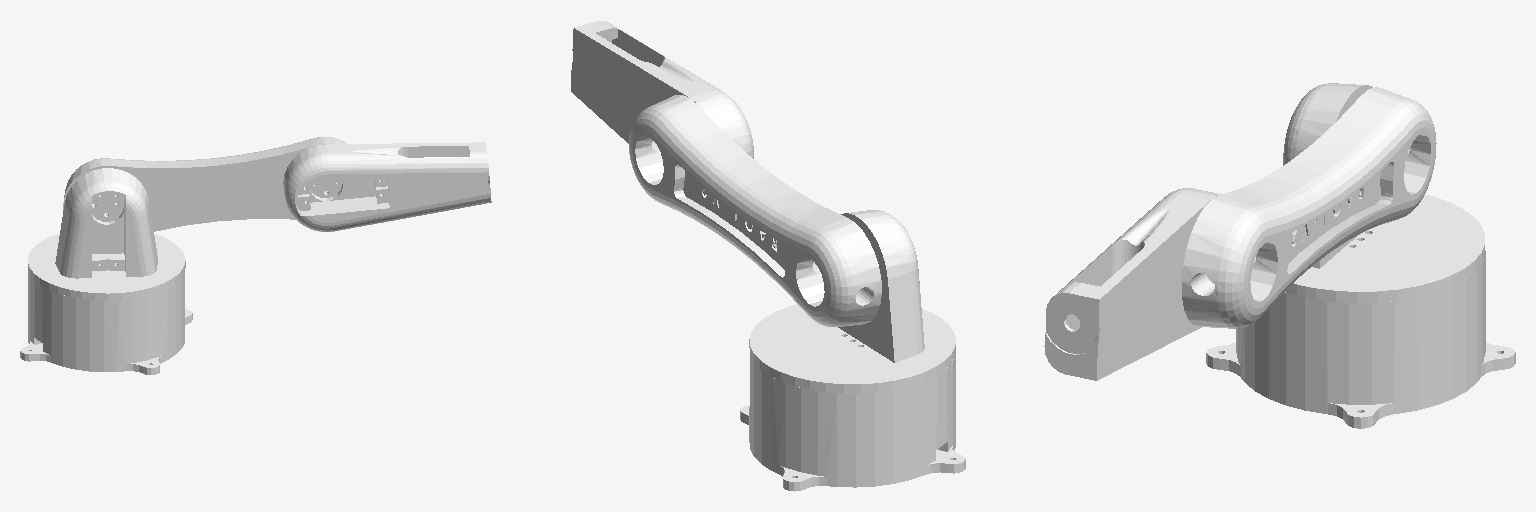
robot.urdf — Assem2:
<?xml version="1.0" encoding="utf-8"?>
<!-- This URDF was automatically created by SolidWorks to URDF Exporter! Originally created by [author] ([email redacted]) 
     Commit Version: 1.6.0-4-g7f85cfe  Build Version: 1.6.7995.38578
     For more information, please see http://wiki.ros.org/sw_urdf_exporter -->
<robot
  name="Assem2">
  <link
    name="base_link">
    <inertial>
      <origin
        xyz="0.0285647678482811 0.0128385978567724 0.086626074969798"
        rpy="0 0 0" />
      <mass
        value="0.093991528357274" />
      <inertia
        ixx="0.000114117470960472"
        ixy="-1.35284302533612E-06"
        ixz="-1.97704391590087E-13"
        iyy="0.000197768588984219"
        iyz="-1.91153638161672E-13"
        izz="0.000124427257958152" />
    </inertial>
    <visual>
      <origin
        xyz="0 0 0"
        rpy="0 0 0" />
      <geometry>
        <mesh
          filename="package://Assem2/meshes/base_link.STL" />
      </geometry>
      <material
        name="">
        <color
          rgba="1 1 1 1" />
      </material>
    </visual>
    <collision>
      <origin
        xyz="0 0 0"
        rpy="0 0 0" />
      <geometry>
        <mesh
          filename="package://Assem2/meshes/base_link.STL" />
      </geometry>
    </collision>
  </link>
  <link
    name="1">
    <inertial>
      <origin
        xyz="-1.03814226742882E-07 0.00705756789604219 0.0144229347811694"
        rpy="0 0 0" />
      <mass
        value="0.0897213187915252" />
      <inertia
        ixx="6.69370927398782E-05"
        ixy="2.7714050232135E-10"
        ixz="6.66096705314111E-11"
        iyy="7.72728720700262E-05"
        iyz="-7.96790903926846E-06"
        izz="7.06954475493944E-05" />
    </inertial>
    <visual>
      <origin
        xyz="0 0 0"
        rpy="0 0 0" />
      <geometry>
        <mesh
          filename="package://Assem2/meshes/1.STL" />
      </geometry>
      <material
        name="">
        <color
          rgba="1 1 1 1" />
      </material>
    </visual>
    <collision>
      <origin
        xyz="0 0 0"
        rpy="0 0 0" />
      <geometry>
        <mesh
          filename="package://Assem2/meshes/1.STL" />
      </geometry>
    </collision>
  </link>
  <joint
    name="1"
    type="revolute">
    <origin
      xyz="0.027675 -0.086626 0.045413"
      rpy="0 0 2.6847" />
    <parent
      link="base_link" />
    <child
      link="1" />
    <axis
      xyz="0 0 1" />
    <limit
      lower="0"
      upper="0"
      effort="0"
      velocity="0" />
  </joint>
  <link
    name="2">
    <inertial>
      <origin
        xyz="-0.0697990645009411 0.00534804729620737 0.011408457629345"
        rpy="0 0 0" />
      <mass
        value="0.137984755190084" />
      <inertia
        ixx="3.30654564458171E-05"
        ixy="2.9107029732671E-05"
        ixz="3.38678527076897E-09"
        iyy="0.000410697193055452"
        iyz="9.46088164052245E-11"
        izz="0.000431683422092982" />
    </inertial>
    <visual>
      <origin
        xyz="0 0 0"
        rpy="0 0 0" />
      <geometry>
        <mesh
          filename="package://Assem2/meshes/2.STL" />
      </geometry>
      <material
        name="">
        <color
          rgba="1 1 1 1" />
      </material>
    </visual>
    <collision>
      <origin
        xyz="0 0 0"
        rpy="0 0 0" />
      <geometry>
        <mesh
          filename="package://Assem2/meshes/2.STL" />
      </geometry>
    </collision>
  </link>
  <joint
    name="2"
    type="revolute">
    <origin
      xyz="0.0005 -0.0003 0.03825"
      rpy="1.5708 0 0" />
    <parent
      link="1" />
    <child
      link="2" />
    <axis
      xyz="0 0 -1" />
    <limit
      lower="0"
      upper="0"
      effort="0"
      velocity="0" />
  </joint>
  <link
    name="3">
    <inertial>
      <origin
        xyz="-0.0316987383591653 0.00947855490599481 -0.000100399059102405"
        rpy="0 0 0" />
      <mass
        value="0.08033502878652" />
      <inertia
        ixx="2.12572462614346E-05"
        ixy="8.16587085996663E-07"
        ixz="-2.54315738054373E-07"
        iyy="0.000117225919916587"
        iyz="1.05482305188801E-08"
        izz="0.000104519139628021" />
    </inertial>
    <visual>
      <origin
        xyz="0 0 0"
        rpy="0 0 0" />
      <geometry>
        <mesh
          filename="package://Assem2/meshes/3.STL" />
      </geometry>
      <material
        name="">
        <color
          rgba="1 1 1 1" />
      </material>
    </visual>
    <collision>
      <origin
        xyz="0 0 0"
        rpy="0 0 0" />
      <geometry>
        <mesh
          filename="package://Assem2/meshes/3.STL" />
      </geometry>
    </collision>
  </link>
  <joint
    name="3"
    type="revolute">
    <origin
      xyz="-0.13959 0.010696 0"
      rpy="-1.5708 0 -0.075722" />
    <parent
      link="2" />
    <child
      link="3" />
    <axis
      xyz="0 1 0" />
    <limit
      lower="0"
      upper="0"
      effort="0"
      velocity="0" />
  </joint>
</robot>

--- Render facts (derived) ---
Views: 3 orthographic renders of the robot side by side, from view 1: azimuth 30°, elevation 25°; view 2: azimuth 150°, elevation 25°; view 3: azimuth 270°, elevation 25°.
Model Assem2 with 4 links and 3 joints (3 revolute), rooted at base_link, posed all joints at 0.
Links seen in each view (by area): view 1: 3, 1, 2, base_link; view 2: 2, base_link, 1, 3; view 3: 2, base_link, 3, 1.
Boxes of the visible links, x1=… form: 3: x1=283, y1=142, x2=491, y2=231; 1: x1=28, y1=168, x2=185, y2=300; 2: x1=63, y1=137, x2=346, y2=231; base_link: x1=20, y1=272, x2=192, y2=374; 2: x1=629, y1=95, x2=881, y2=326; base_link: x1=740, y1=354, x2=965, y2=491; 1: x1=749, y1=210, x2=955, y2=393; 3: x1=571, y1=21, x2=753, y2=158; 2: x1=1181, y1=87, x2=1436, y2=328; base_link: x1=1206, y1=250, x2=1515, y2=428; 3: x1=1044, y1=188, x2=1221, y2=380; 1: x1=1283, y1=83, x2=1484, y2=302.
Size in the robot's own frame: 0.2808 by 0.1889 by 0.1309 metres.
4 mesh visuals loaded from 4 distinct referenced files (4 binary STL).